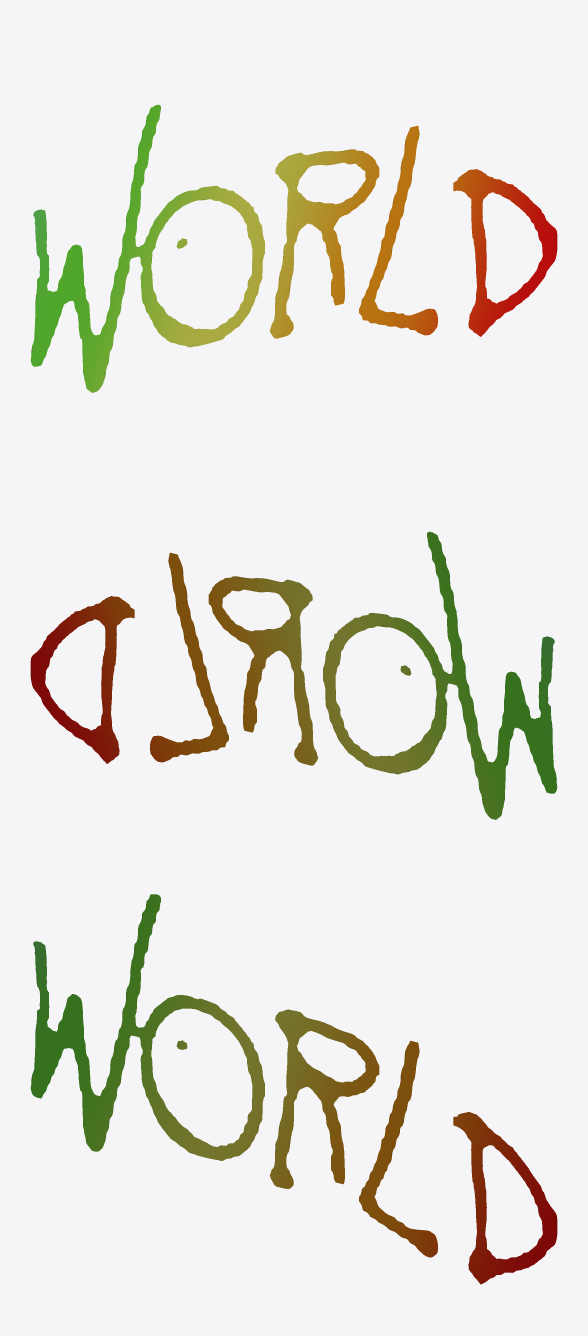
Rendered from world_signage.FBX.
3 renders of one model, top to bottom at view 1: azimuth 30°, elevation 25°; view 2: azimuth 150°, elevation 25°; view 3: azimuth 330°, elevation 25°, orthographic.
Visible parts, largest first — view 1: "world"_signage; view 2: "world"_signage; view 3: "world"_signage.
Boxes of the visible parts, bbox=[...] form: "world"_signage: bbox=[30, 104, 557, 392]; "world"_signage: bbox=[30, 531, 557, 819]; "world"_signage: bbox=[30, 894, 557, 1284].
Bounding box in the file's own units: 48.29 × 28.15 × 1.16e-05.
